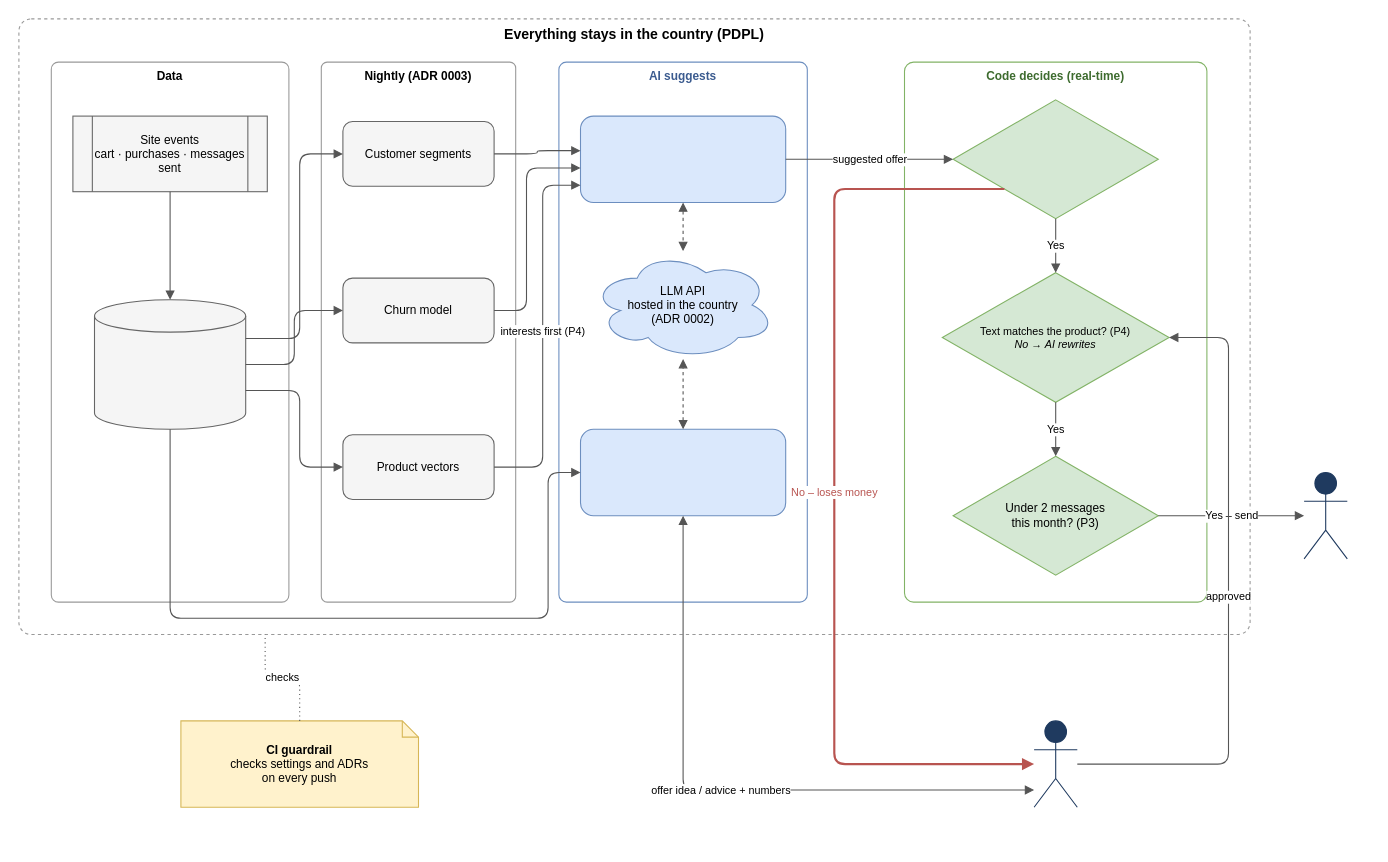
The diagram is 1388 pixels wide and 862 high, and some of its shapes have lost their labels. The shapes that lost their labels are listed below. From the top down, each one's centre as x and y in pixels, then its label:
At point 682,158: "Offer & campaign agent products, customers, discount, text".
At point 1055,159: "Profitable? (P1)".
At point 169,364: "Store database PostgreSQL + pgvector (ADR 0004)".
At point 682,472: "Advisor for admins answers with the numbers (P2)".
At point 1325,515: "Customers site · email · app".
At point 1055,763: "Admin / marketing team can pause any campaign".
